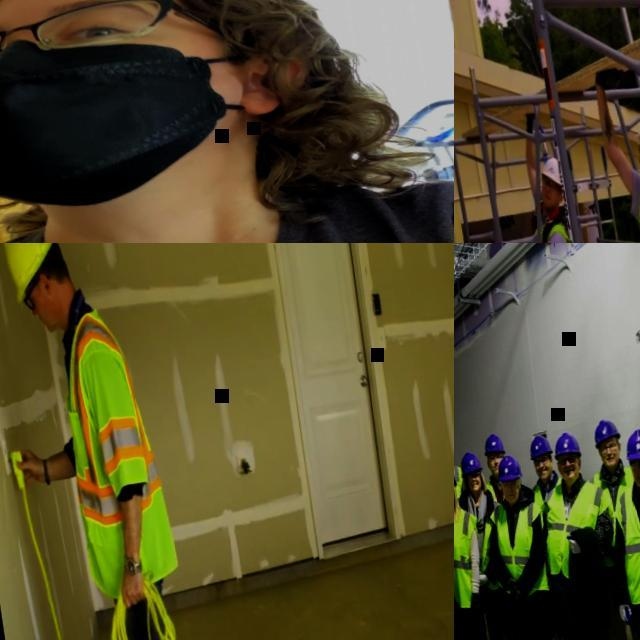helmet: (0, 243, 68, 303), (550, 429, 582, 461), (590, 416, 622, 448), (496, 453, 522, 482), (539, 156, 562, 187), (621, 426, 640, 462), (526, 434, 553, 459), (458, 450, 482, 476), (482, 432, 506, 456), (631, 106, 640, 156)
vest: (50, 302, 173, 554), (536, 474, 622, 584), (486, 496, 554, 602), (582, 463, 640, 569), (609, 469, 640, 611), (469, 497, 514, 592), (454, 506, 489, 612), (523, 207, 579, 243), (530, 475, 568, 528), (454, 460, 468, 520), (485, 480, 506, 505)
